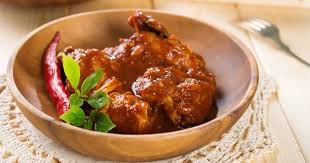rendang: (34, 12, 234, 141)
